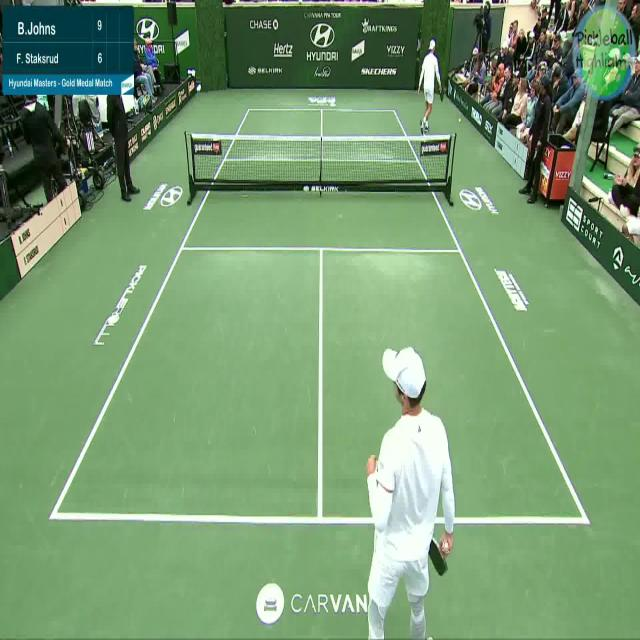Court: (52, 109, 589, 523)
ball: (457, 113, 465, 125)
